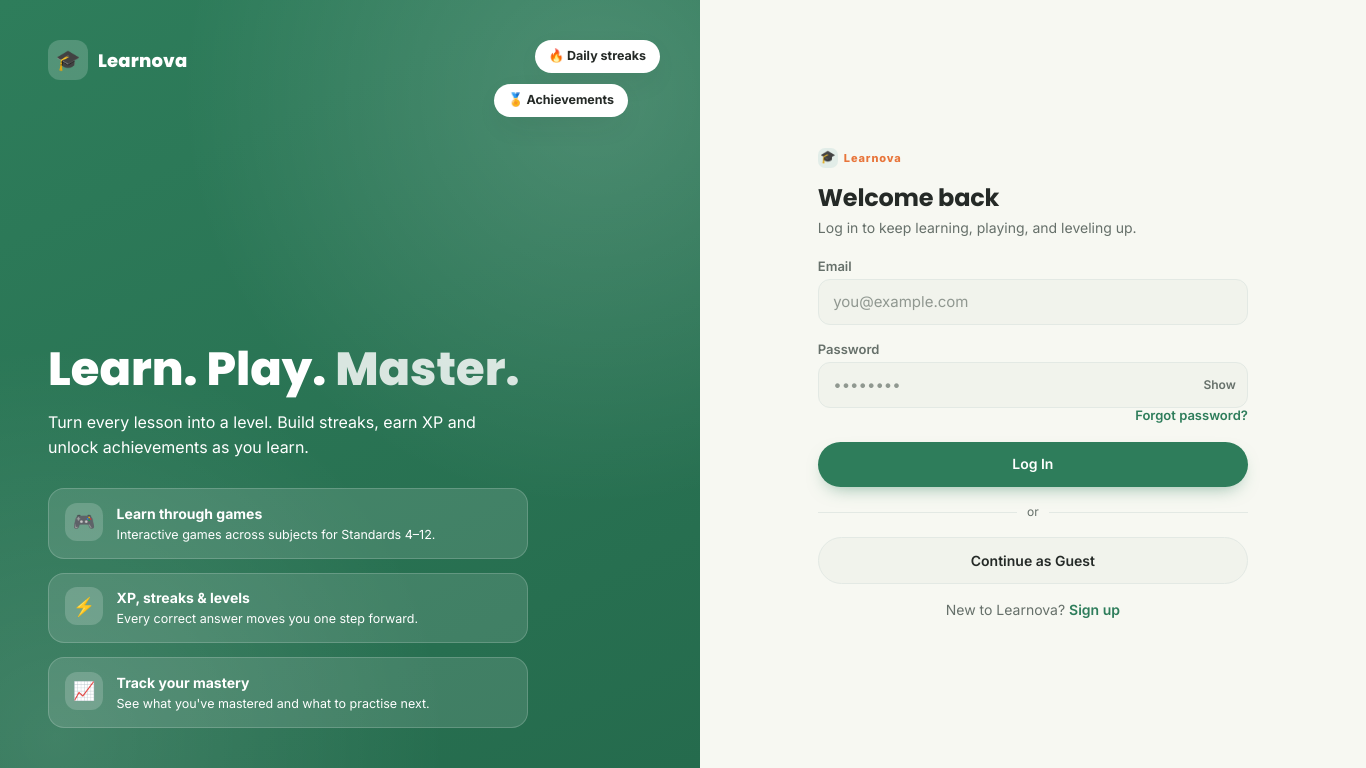
Test case: Login › disables the submit button and shows a busy label while the request is in flight
This screenshot has width=1366, height=768.
Type "a@b.com" into the field labelled "Email" at [1033, 302], box x1=818 y1=279 x2=1248 y2=325
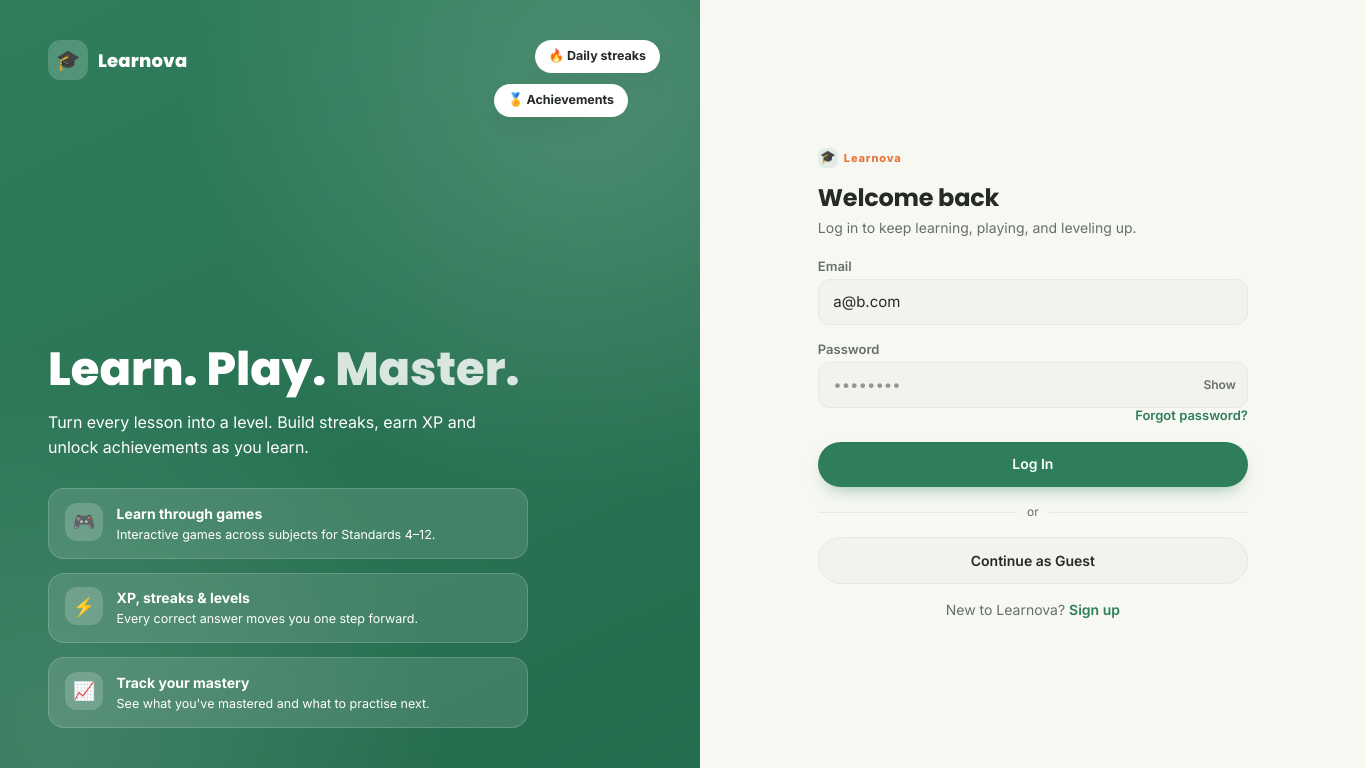
Type "secret" into the password field labelled "Password" at [1033, 385], box x1=818 y1=362 x2=1248 y2=408
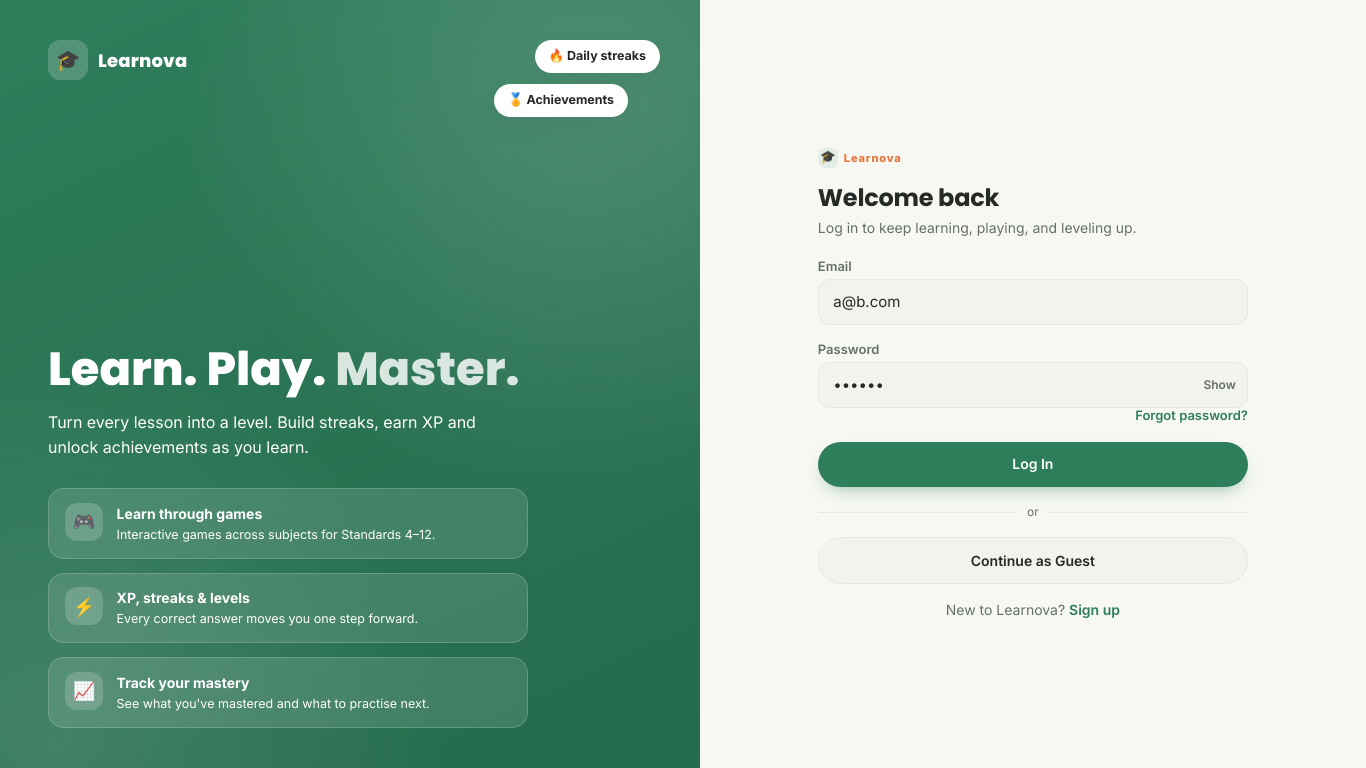
Click the button "Log In" at [1033, 464], box x1=818 y1=442 x2=1248 y2=487
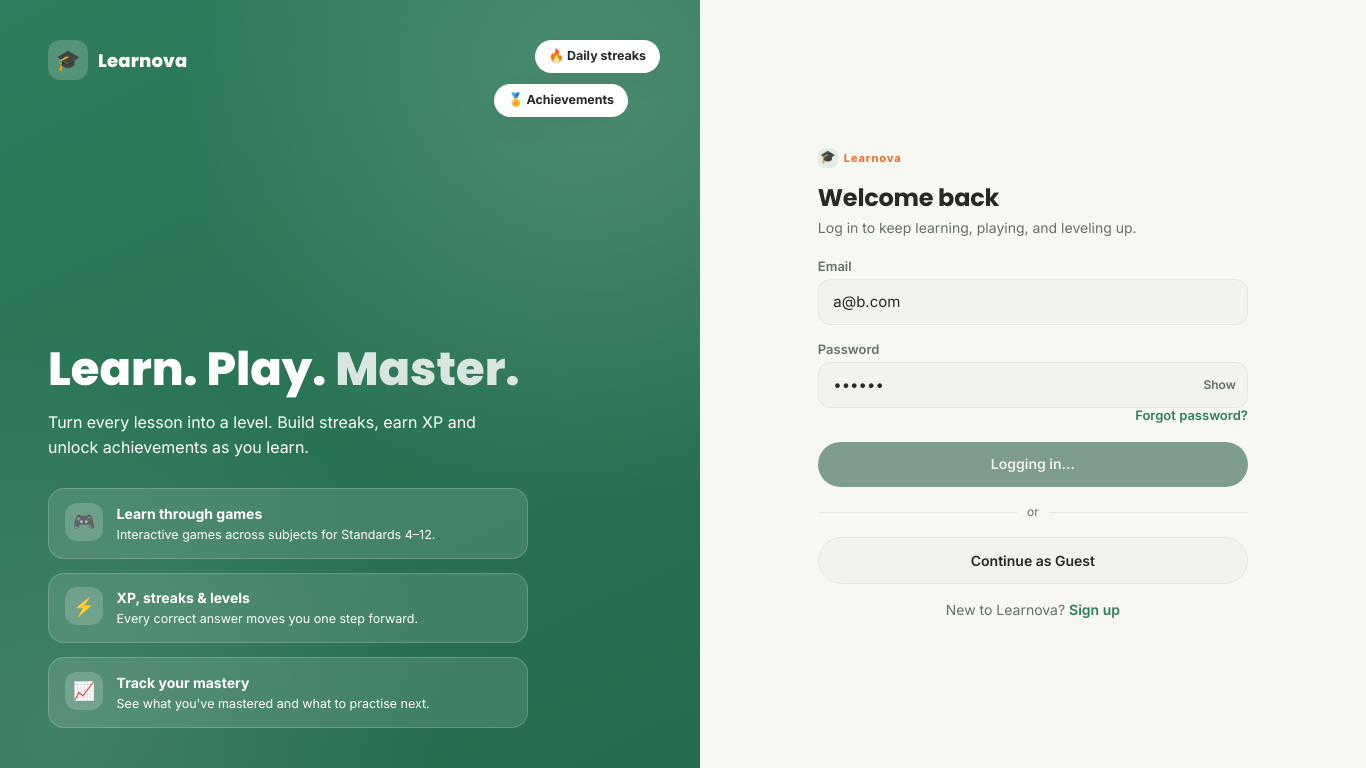
Expected: the button named "log in" is disabled, x1=818 y1=442 x2=1248 y2=487
